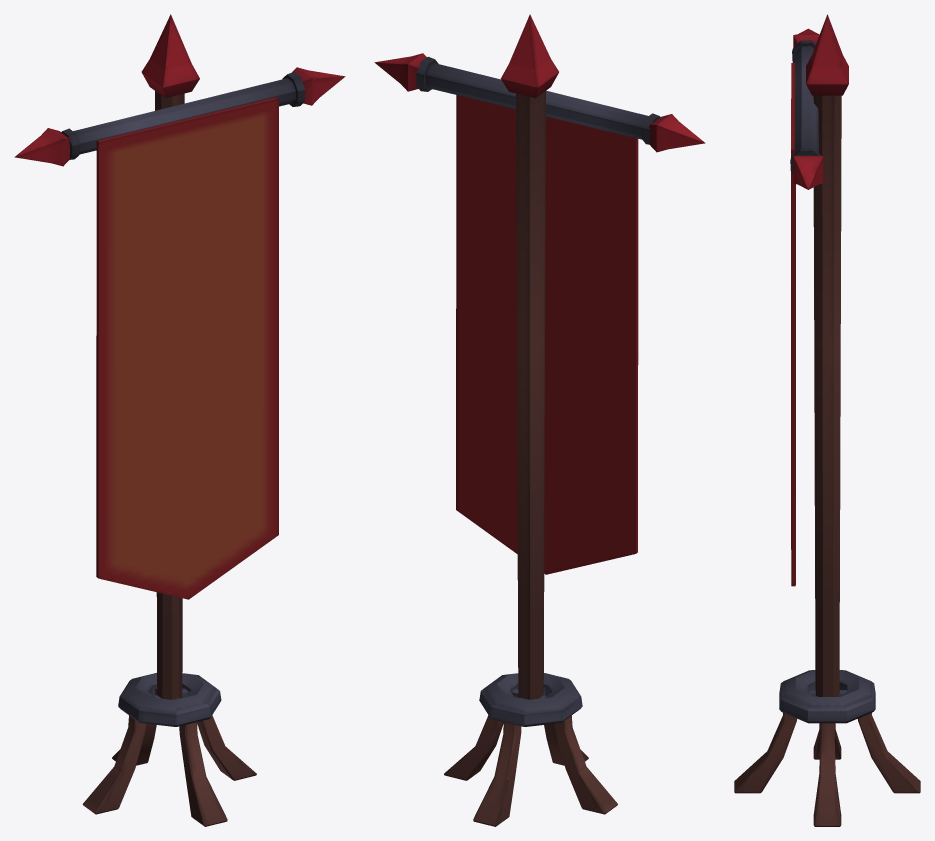
Rendered from Bandeira1.fbx.
The picture shows the model from 3 angles, left to right: view 1: azimuth 30°, elevation 25°; view 2: azimuth 150°, elevation 25°; view 3: azimuth 270°, elevation 25°; orthographic projection.
Visible parts, largest first — view 1: Bandeira 1; view 2: Bandeira 1; view 3: Bandeira 1.
Part boxes in pixels (bbox=[...]): Bandeira 1: bbox=[14, 14, 345, 826]; Bandeira 1: bbox=[374, 14, 705, 826]; Bandeira 1: bbox=[734, 14, 920, 826].
Bounding box in the file's own units: 81.7 × 183 × 39.85.
